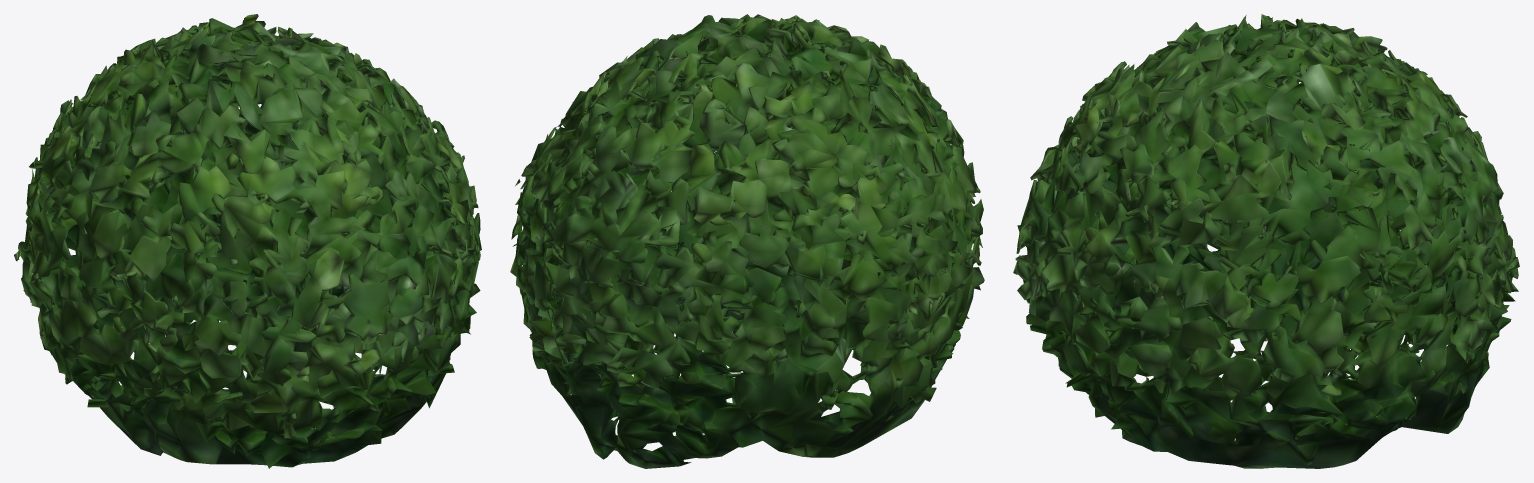
The model's file is massif_buis.glb.
3 renders of one model, left to right at view 1: azimuth 30°, elevation 25°; view 2: azimuth 150°, elevation 25°; view 3: azimuth 270°, elevation 25°, orthographic. The views are drawn at different scales.
Visible parts, largest first — view 1: Object_5; view 2: Object_5; view 3: Object_5.
Part boxes in pixels (bbox=[...]): Object_5: bbox=[14, 14, 481, 468]; Object_5: bbox=[510, 14, 984, 468]; Object_5: bbox=[1013, 14, 1519, 468].
Bounding box in the file's own units: 0.9243 × 0.7957 × 0.998.
Materials: 1 (1 with a texture image).
